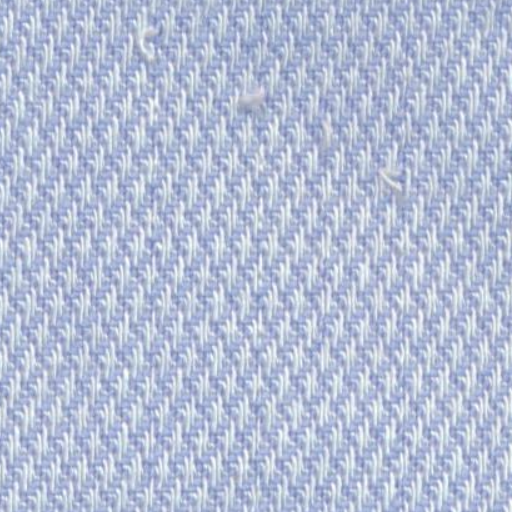DuanSha: (369, 146, 417, 210), (116, 22, 177, 62), (224, 71, 273, 115)
